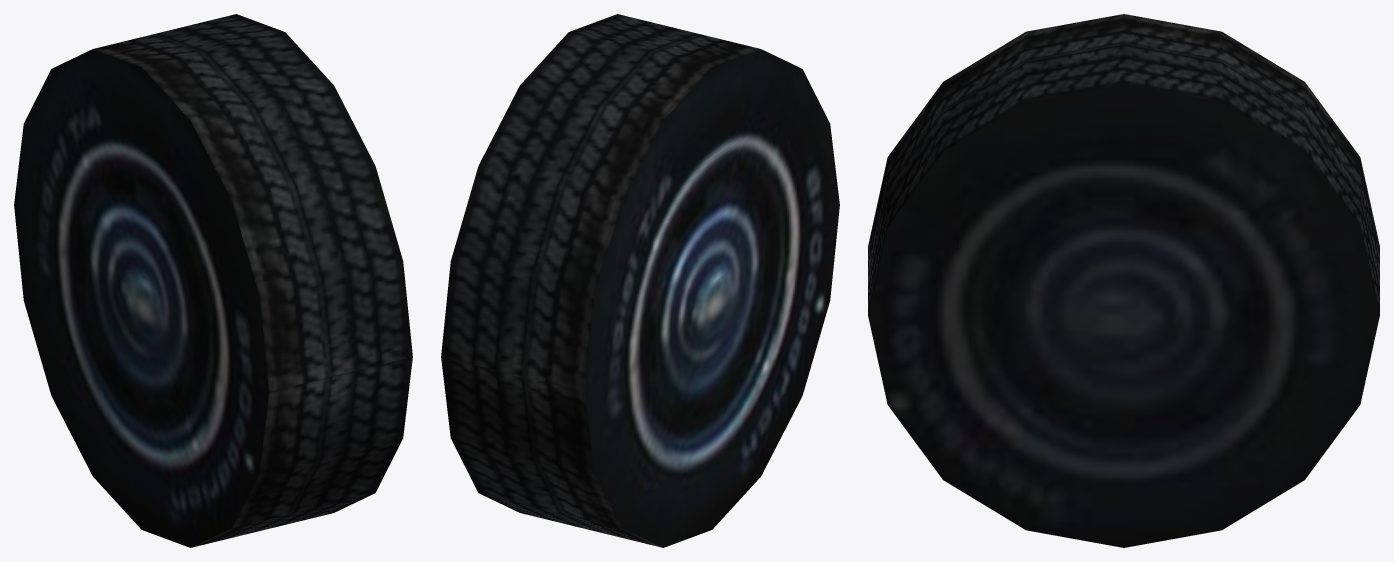
The model's file is wheel_Rear_L.DAE.
3 renders of one model, left to right at view 1: azimuth 30°, elevation 25°; view 2: azimuth 150°, elevation 25°; view 3: azimuth 270°, elevation 25°, orthographic.
Parts seen in each view (by area): view 1: Wheel_Rear-L; view 2: Wheel_Rear-L; view 3: Wheel_Rear-L.
Boxes of the visible parts, x1,y1,x2,y2 form: Wheel_Rear-L: [14, 14, 412, 547]; Wheel_Rear-L: [441, 14, 839, 547]; Wheel_Rear-L: [868, 14, 1379, 547].
Size of the model in its own units: 6.69 by 20.58 by 20.58.
Materials: 1 (1 with a texture image).
